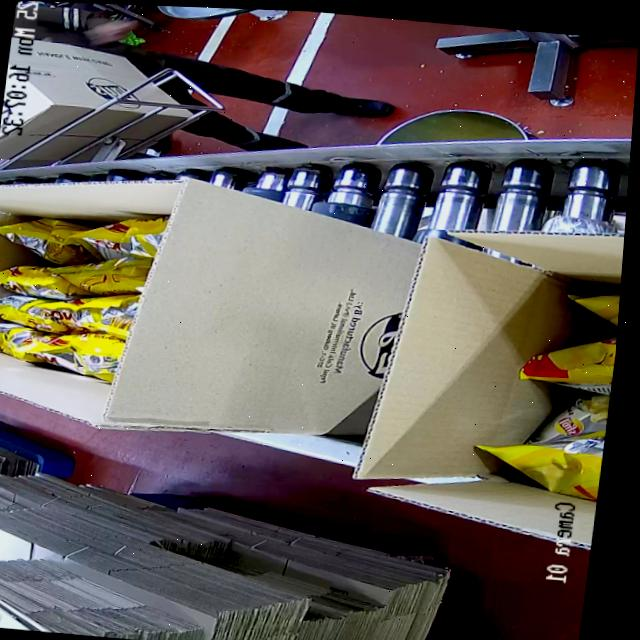SALTED: (443, 262, 622, 503), (0, 198, 152, 389)
